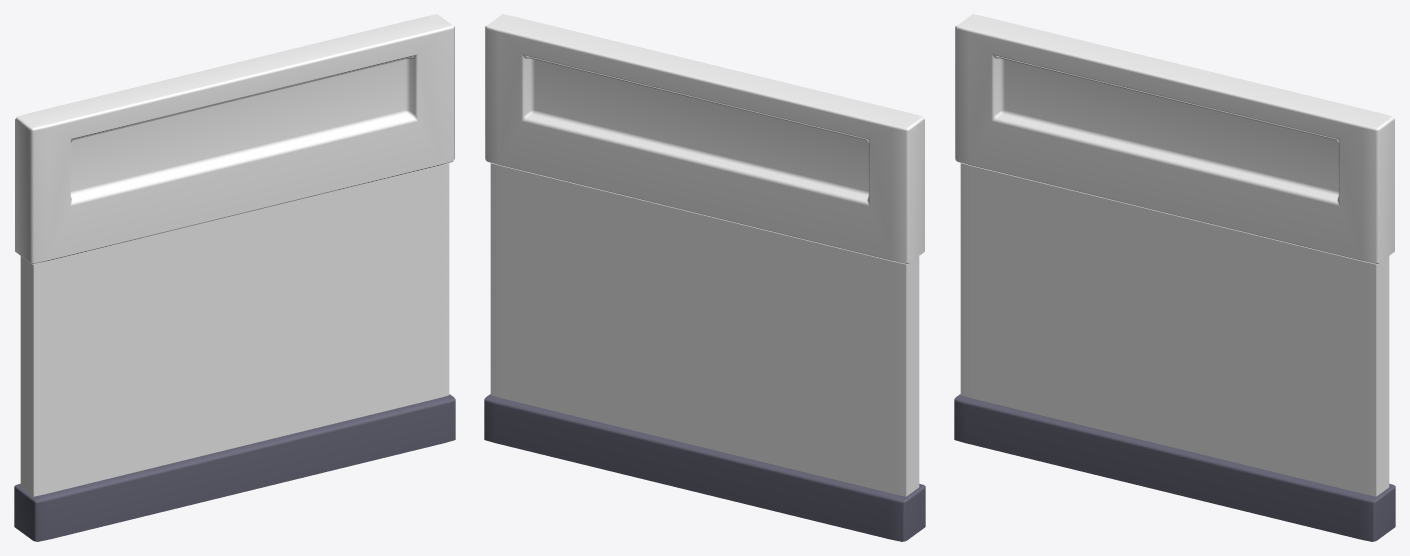
The model's file is mod_sc_tdm_roma_wall_001.fbx.
3 renders of one model, left to right at view 1: azimuth 30°, elevation 25°; view 2: azimuth 150°, elevation 25°; view 3: azimuth 330°, elevation 25°, orthographic.
Parts seen in each view (by area): view 1: mod_sc_roma_001_ar09_wall_018; view 2: mod_sc_roma_001_ar09_wall_018; view 3: mod_sc_roma_001_ar09_wall_018.
Part boxes in pixels (left/top/right/bottom): mod_sc_roma_001_ar09_wall_018: left=14, top=14, right=455, bottom=541; mod_sc_roma_001_ar09_wall_018: left=484, top=14, right=925, bottom=541; mod_sc_roma_001_ar09_wall_018: left=954, top=14, right=1395, bottom=541.
Size of what is drawn, in the model's own units: 648 by 600 by 64.01.
1 material, 1 textured.
